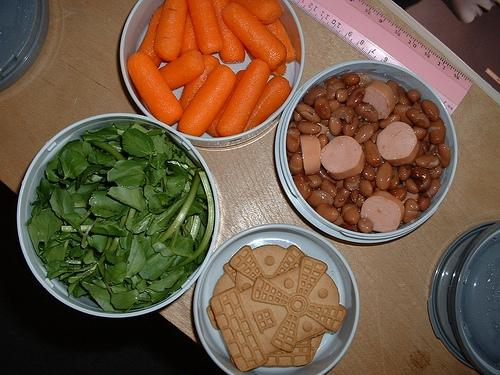carrot: (222, 2, 286, 71), (215, 58, 270, 137), (177, 64, 237, 136), (127, 51, 184, 126), (243, 76, 292, 132), (206, 70, 246, 138), (179, 54, 220, 111), (154, 0, 188, 61), (158, 50, 205, 90), (136, 3, 164, 69), (188, 0, 221, 54), (263, 18, 295, 64), (244, 44, 287, 76), (230, 0, 283, 25), (178, 10, 200, 58)
